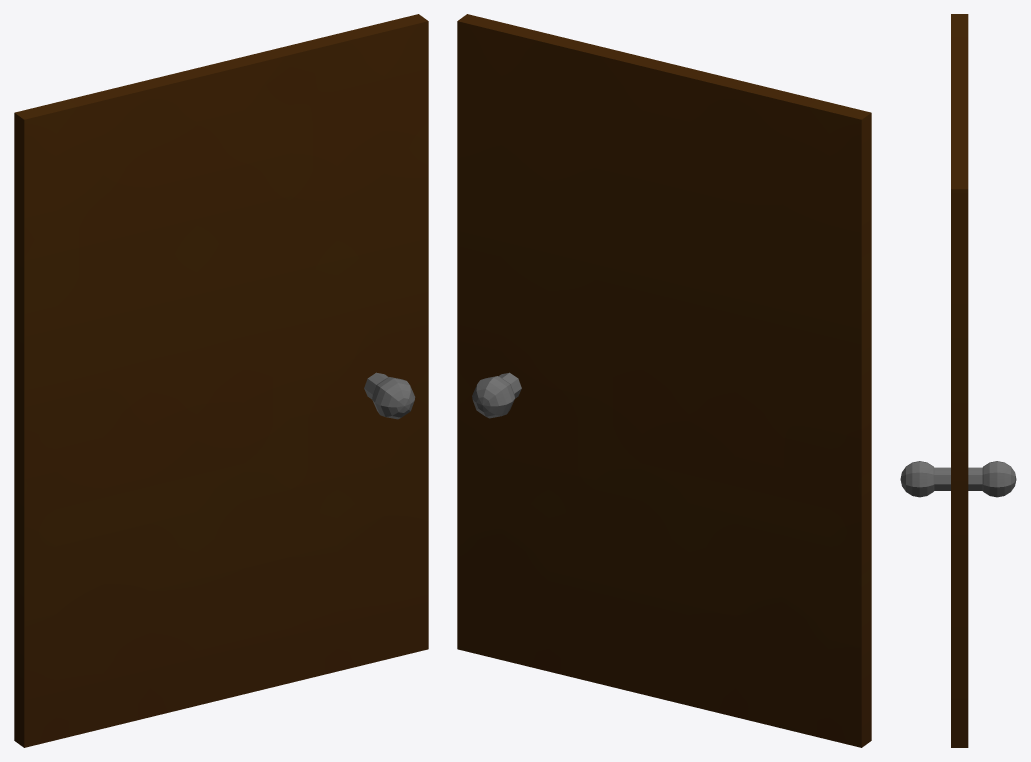
File: Puerta.fbx
3 views of the same model, side by side, from view 1: azimuth 30°, elevation 25°; view 2: azimuth 150°, elevation 25°; view 3: azimuth 270°, elevation 25° (orthographic). The views are drawn at different scales.
Visible parts, largest first — view 1: Puerta.001; view 2: Puerta.001; view 3: Puerta.001.
Part boxes in pixels (box(x1,y1,x2,y2)): Puerta.001: box(14, 14, 428, 747); Puerta.001: box(457, 14, 871, 747); Puerta.001: box(900, 14, 1016, 747).
Size of the model in its own units: 7.8 by 11.58 by 2.18.
1 material, 1 textured.
